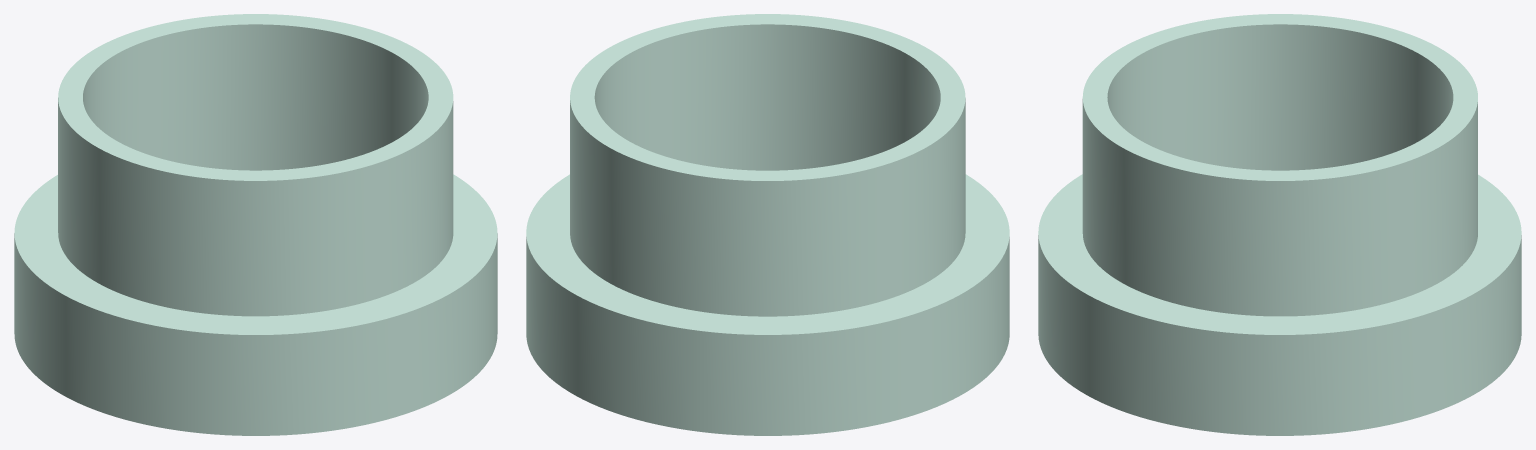
3 views of the same model, side by side, from view 1: azimuth 30°, elevation 25°; view 2: azimuth 150°, elevation 25°; view 3: azimuth 270°, elevation 25° (orthographic).
Visible parts, largest first — view 1: Renderer Node; view 2: Renderer Node; view 3: Renderer Node.
Part boxes in pixels (left/top/right/bottom): Renderer Node: left=14, top=14, right=497, bottom=435; Renderer Node: left=526, top=14, right=1009, bottom=435; Renderer Node: left=1038, top=14, right=1521, bottom=435.
Size of the model in its own units: 1.39 by 0.75 by 1.39.
